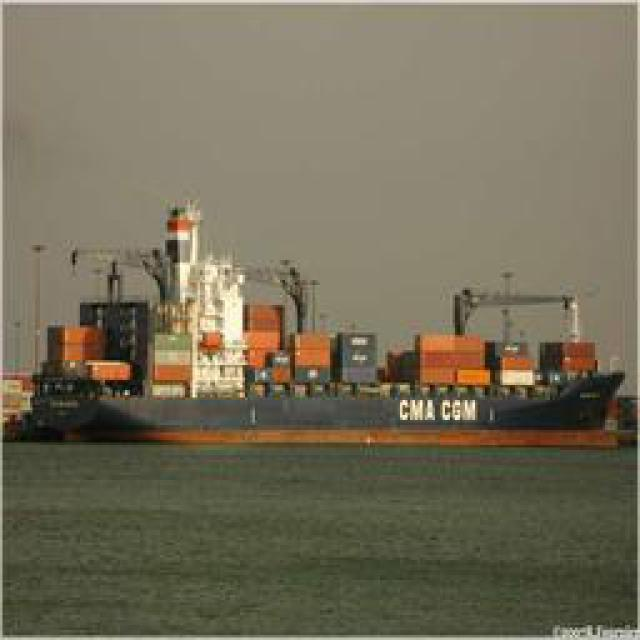Ship: (1, 188, 640, 452)
